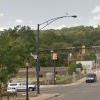Tree: (2, 20, 31, 88)
